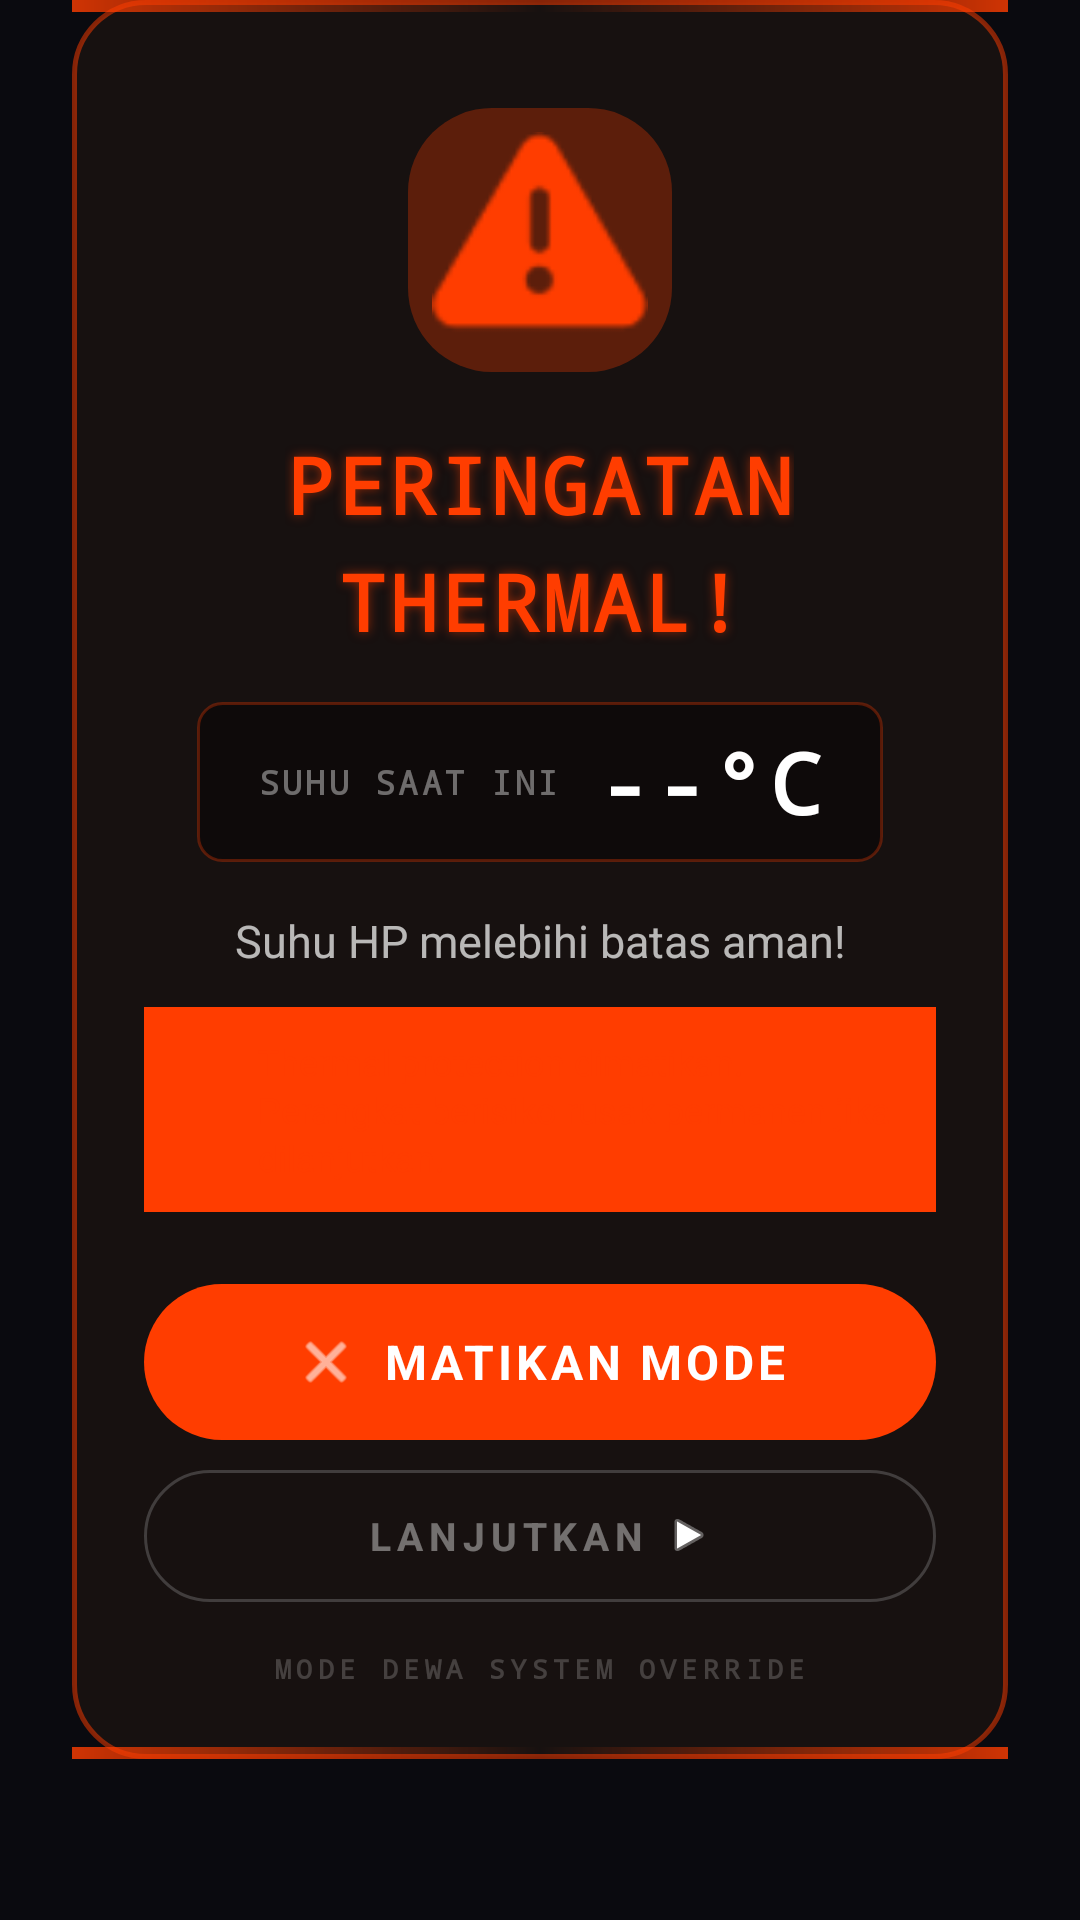

Icons on this 1080px x 1920px Android screen, each with the point to tap as (x=x, y=y):
close clear cancel: (x=326, y=1362)
play: (x=689, y=1535)
